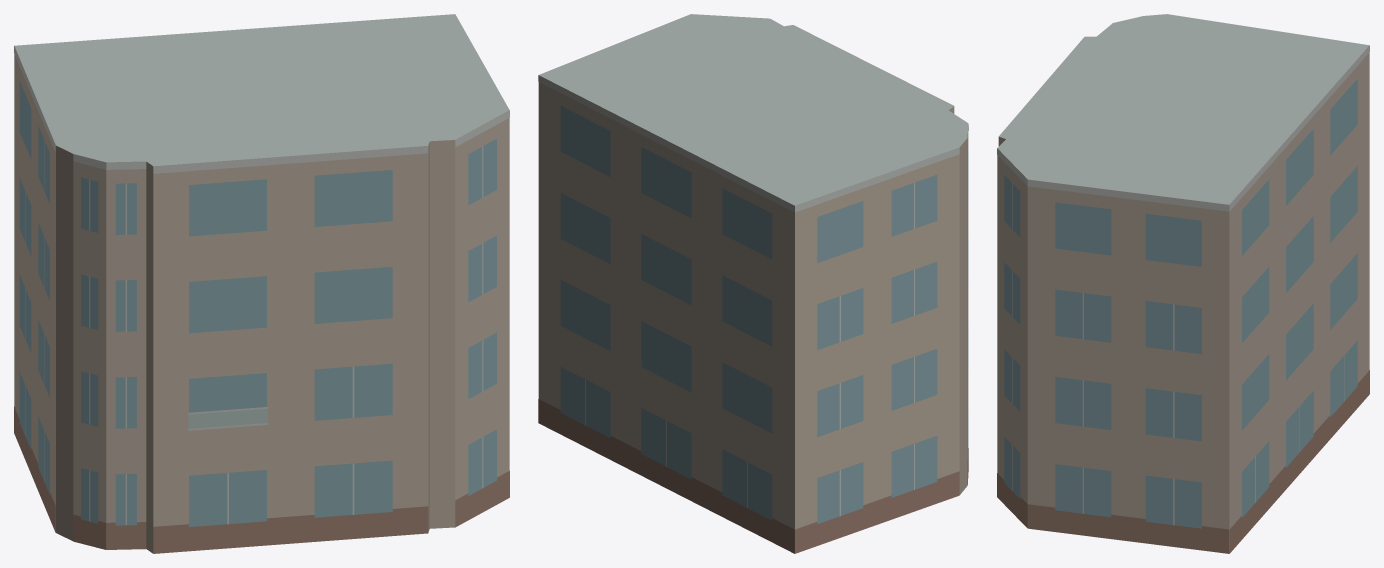
File: survey-upis-33033355.glb
3 views of the same model, side by side, from view 1: azimuth 30°, elevation 25°; view 2: azimuth 150°, elevation 25°; view 3: azimuth 270°, elevation 25° (orthographic). The views are drawn at different scales.
Visible parts, largest first — view 1: survey-upis-33033355.tmp; view 2: survey-upis-33033355.tmp; view 3: survey-upis-33033355.tmp.
Boxes of the visible parts, bbox=[...] form: survey-upis-33033355.tmp: bbox=[14, 14, 509, 553]; survey-upis-33033355.tmp: bbox=[538, 14, 968, 553]; survey-upis-33033355.tmp: bbox=[997, 14, 1369, 553].
Size of the model in its own units: 14.67 by 12.5 by 12.1.
